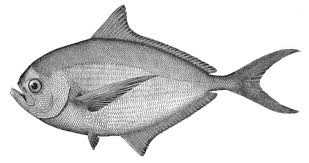Ikan Bawal: (7, 5, 303, 158)
